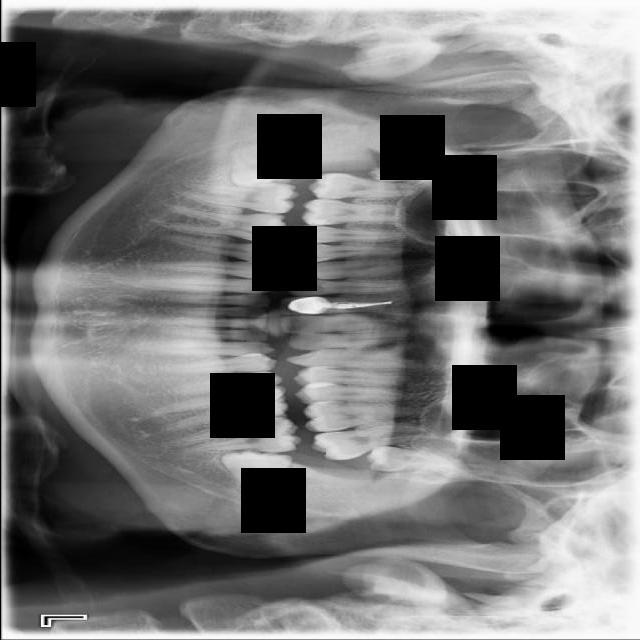3M ESPE Implant: (367, 157, 466, 182)
52: (278, 296, 328, 316)
73: (318, 292, 404, 314), (66, 604, 99, 620)
BioHorizons Implant: (309, 419, 433, 465)
BioLife Implant: (364, 444, 469, 477)
Biomet 3i Implant: (216, 446, 293, 499)
Blue Sky Bio Implant: (177, 417, 300, 455)
Caries: (305, 172, 414, 204)
Implant: (179, 181, 298, 215)
Keystone Dental Implant: (230, 142, 303, 191)
